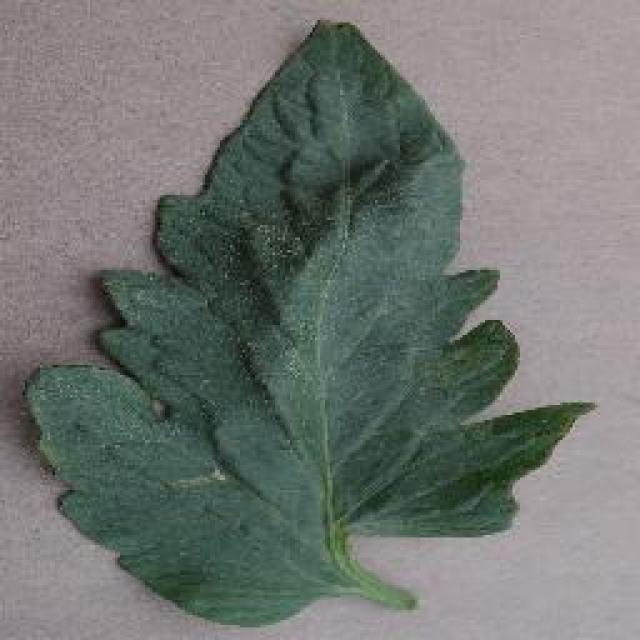Tomato___Bacterial_spot: (20, 16, 601, 632)
